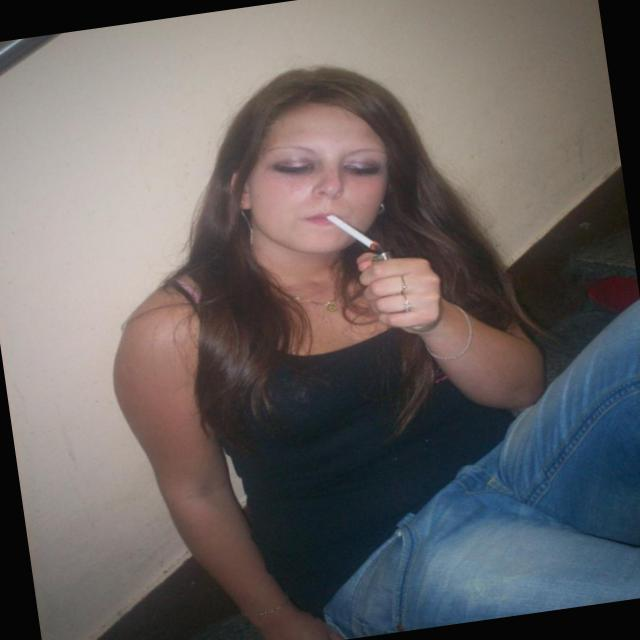smoke: (318, 198, 396, 269)
